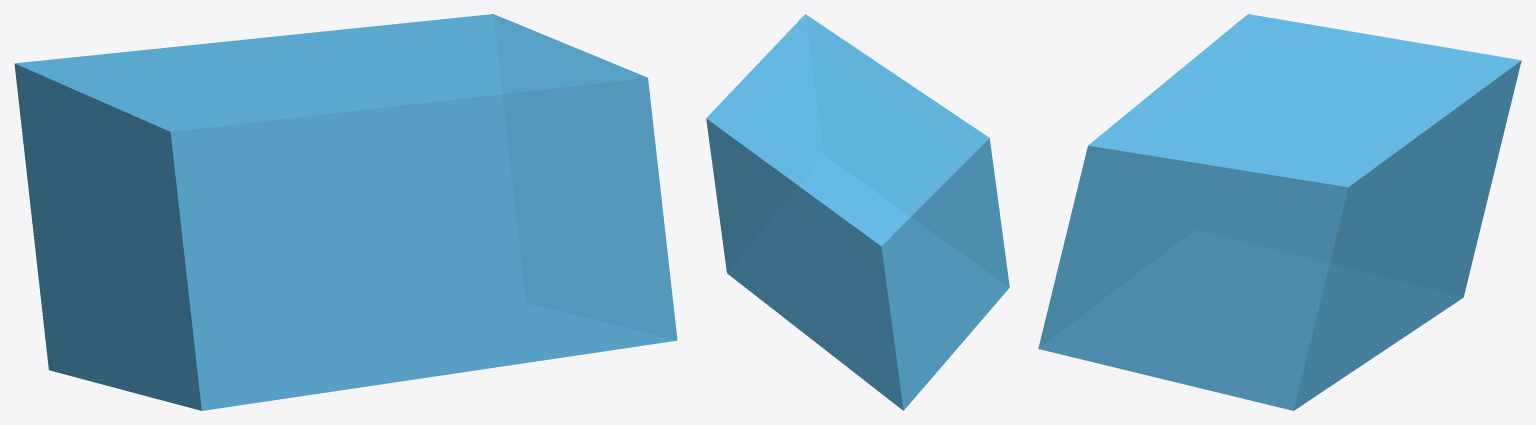
Rendered from Event_420094457_HErechit_1.fbx.
3 views of the same model, side by side, from view 1: azimuth 30°, elevation 25°; view 2: azimuth 150°, elevation 25°; view 3: azimuth 270°, elevation 25° (orthographic). The views are drawn at different scales.
Visible parts, largest first — view 1: Model; view 2: Model; view 3: Model.
Boxes of the visible parts, x1,y1,x2,y2 form: Model: [14, 14, 677, 410]; Model: [706, 14, 1009, 410]; Model: [1038, 14, 1521, 410].
Size of the model in its own units: 0.6143 by 0.5585 by 0.7982.
